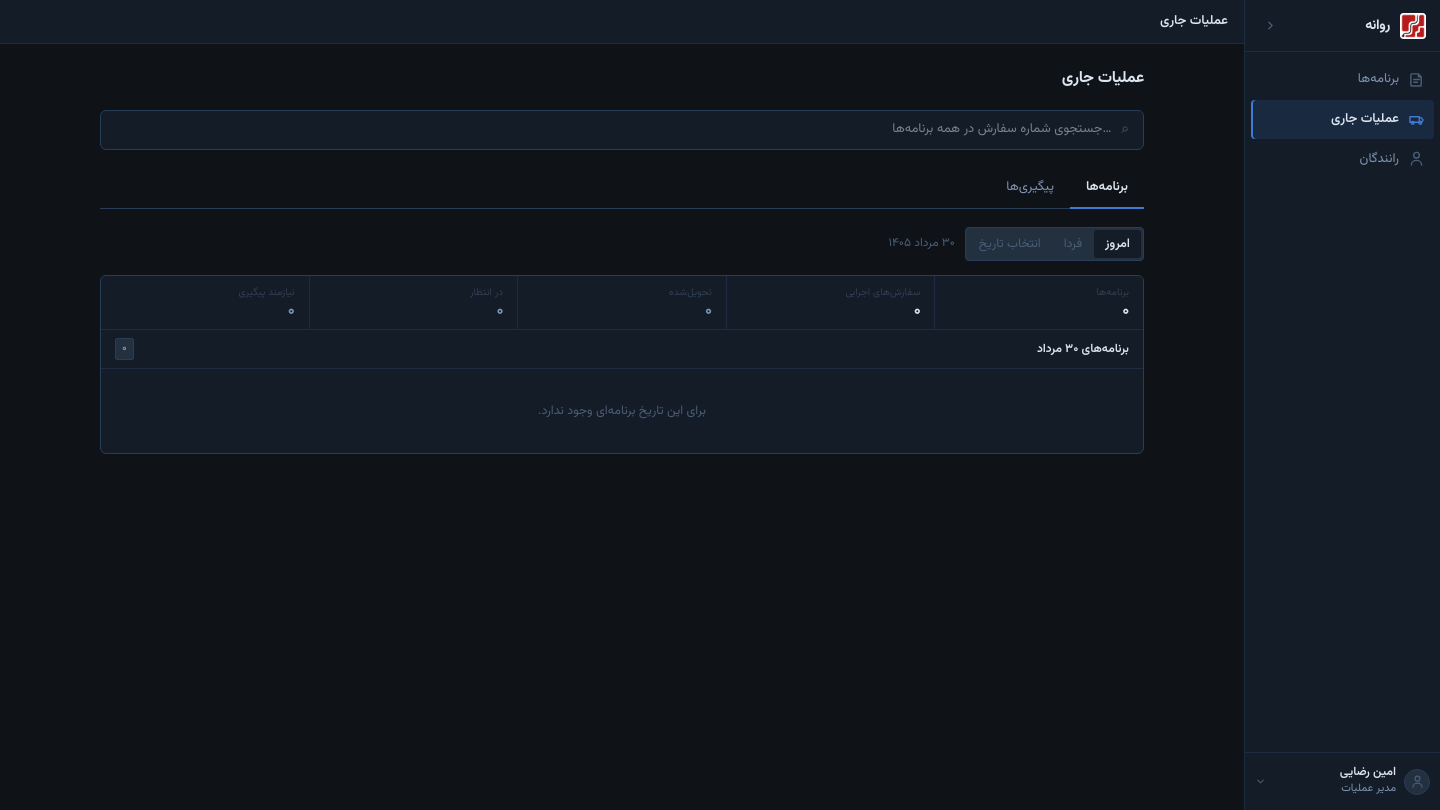
Test: A05 Follow-up backlog › follow-up tab shows follow-ups from execution fixture
Click the tab with test id "ops-tab-followups" at (1030, 188), box x1=990 y1=168 x2=1070 y2=209
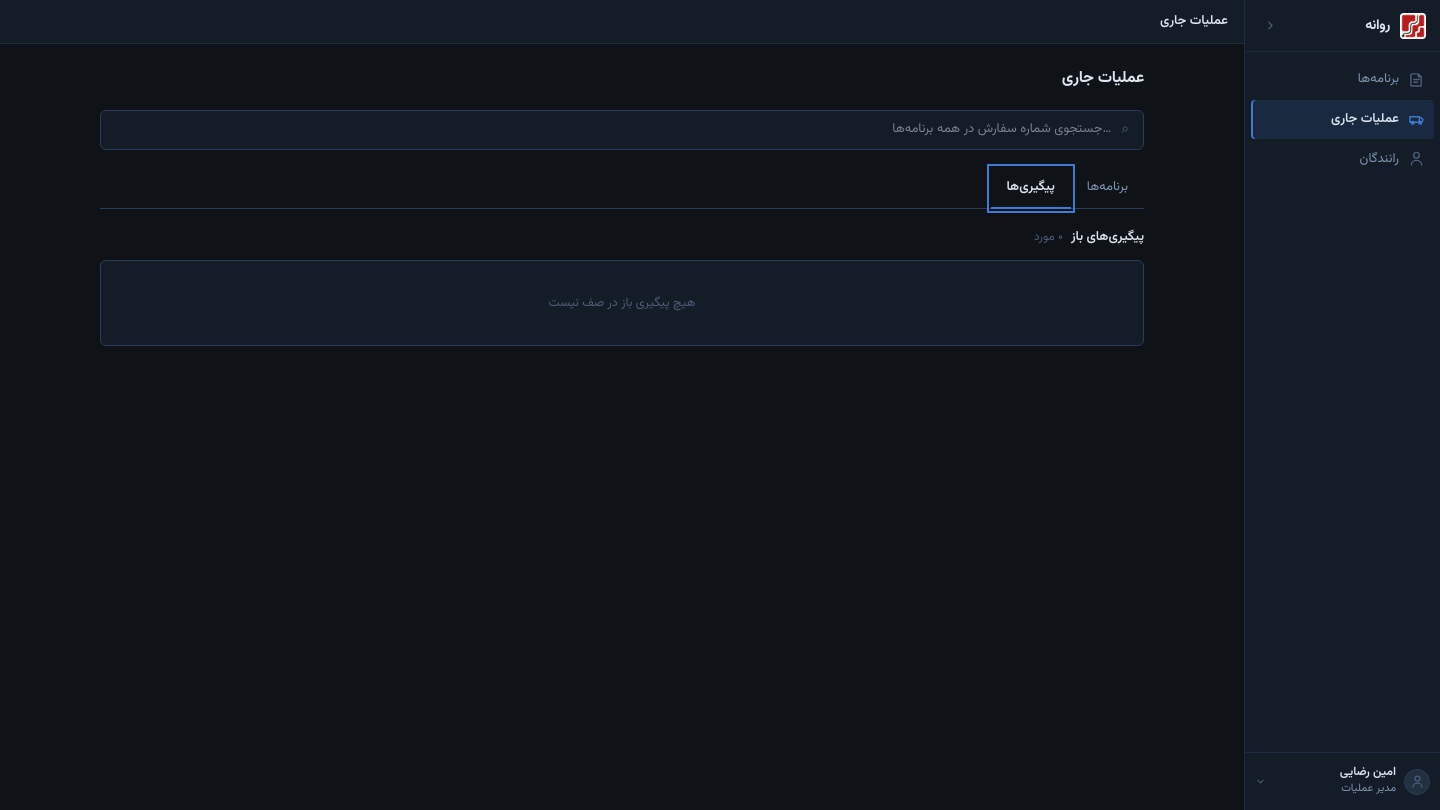
Result: the panel with test id "ops-followups-tab" is shown at x1=100 y1=227 x2=1144 y2=346
